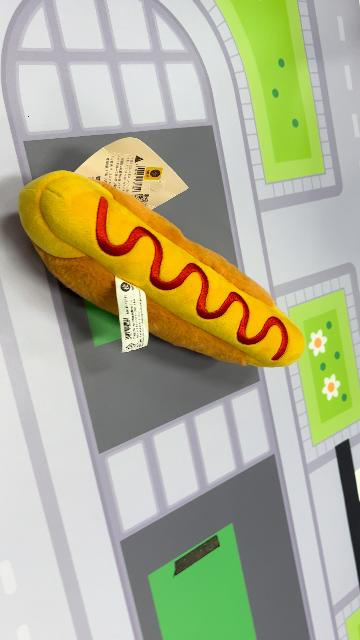hotdog: (17, 168, 307, 370)
